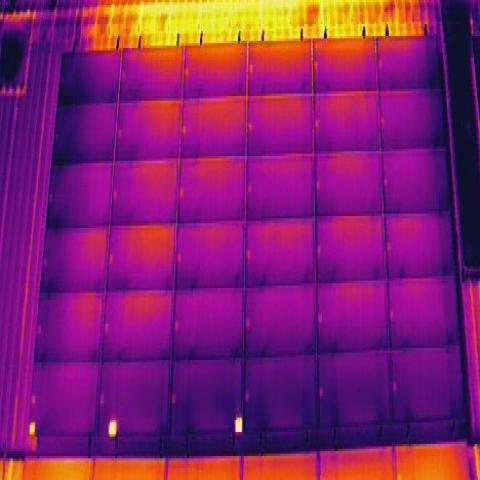fault: (105, 415, 121, 442), (232, 412, 245, 438), (26, 418, 38, 439)
